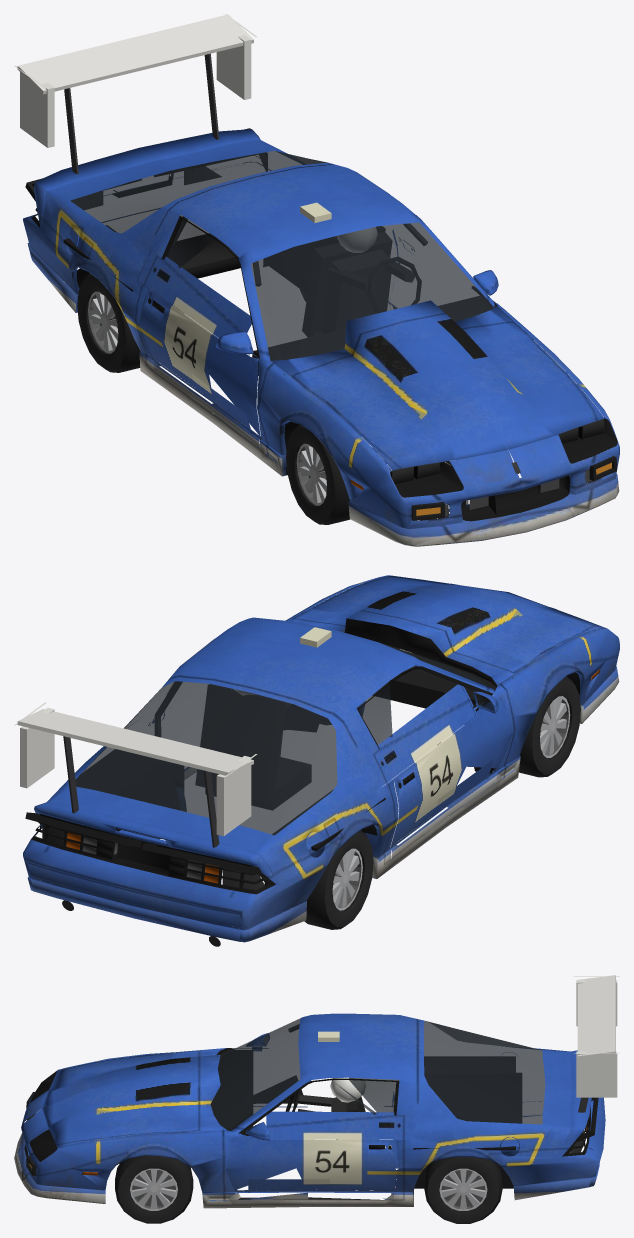
The picture shows the model from 3 angles, top to bottom: view 1: azimuth 30°, elevation 25°; view 2: azimuth 150°, elevation 25°; view 3: azimuth 270°, elevation 25°; orthographic projection. The views are drawn at different scales.
Parts seen in each view (by area): view 1: body, wheel_fr, wheel_rr; view 2: body, wheel_rr, wheel_fr; view 3: body, wheel_fl, wheel_rl.
Boxes of the visible parts, x1,y1,x2,y2 form: body: (14,14,619,546); wheel_fr: (286,424,351,524); wheel_rr: (77,273,140,372); body: (14,575,619,946); wheel_rr: (304,830,373,929); wheel_fr: (519,676,580,777); body: (14,975,619,1208); wheel_fl: (115,1155,193,1223); wheel_rl: (424,1156,502,1223).
Bounding box in the file's own units: 1.99 × 1.53 × 5.02.
2 materials, 1 textured.
